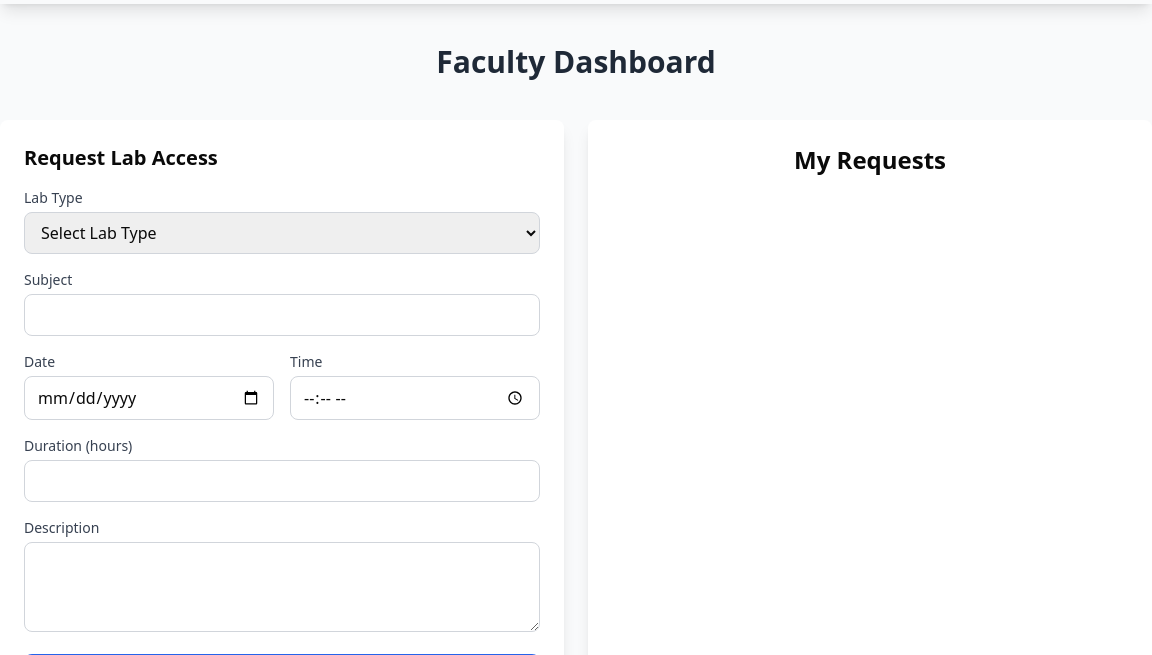
Test: Lab Booking System › checks if the request appears in 'My Requests' list
Select "Chemical Lab" in the dropdown. click: (282, 233)
box: [24, 212, 540, 254]
Type "general Organic Chemistry" into the field. click: (282, 315)
box: [24, 294, 540, 336]
Type "2025-04-10" into the date field. click: (149, 398)
box: [24, 376, 274, 420]
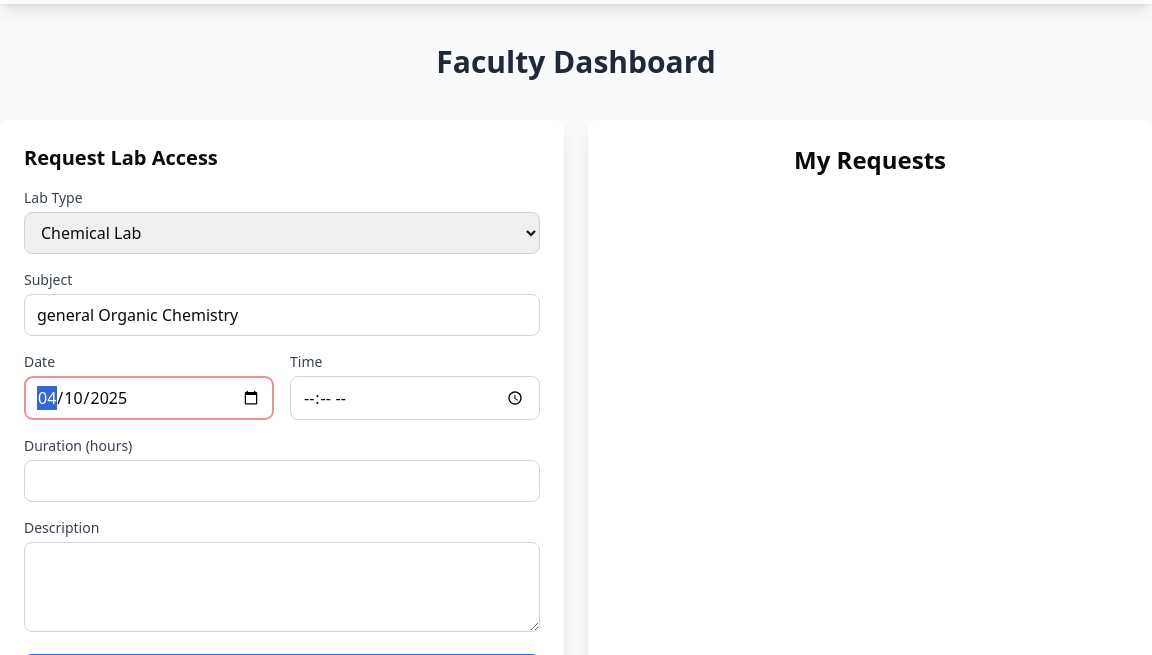
Type "12:00" into the time field. click: (415, 398)
box: [290, 376, 540, 420]
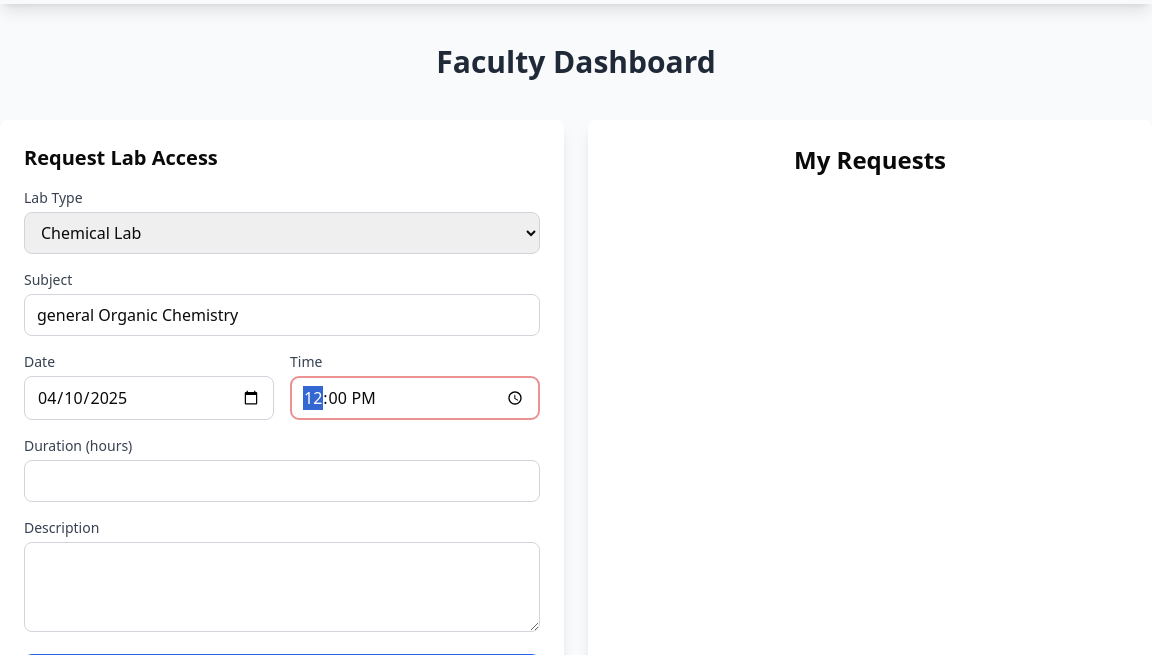
Type "2" into the number field. click: (282, 481)
box: [24, 460, 540, 502]
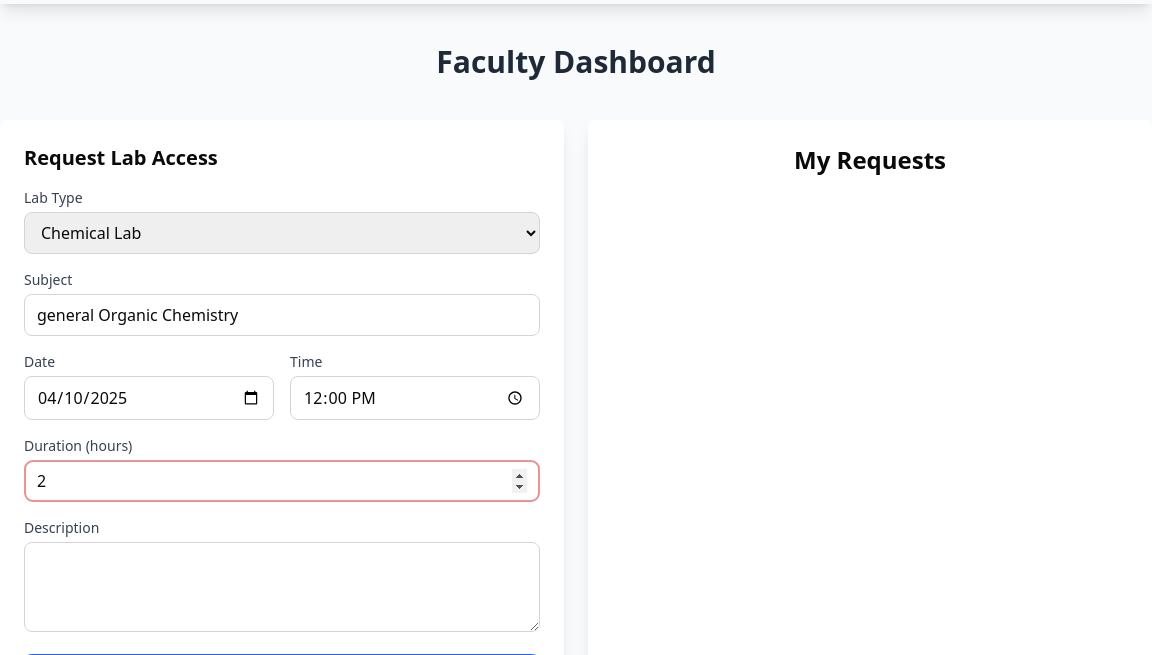
Type "Chemical Lab for class experiment" into the text box. click: (282, 587)
box: [24, 542, 540, 632]
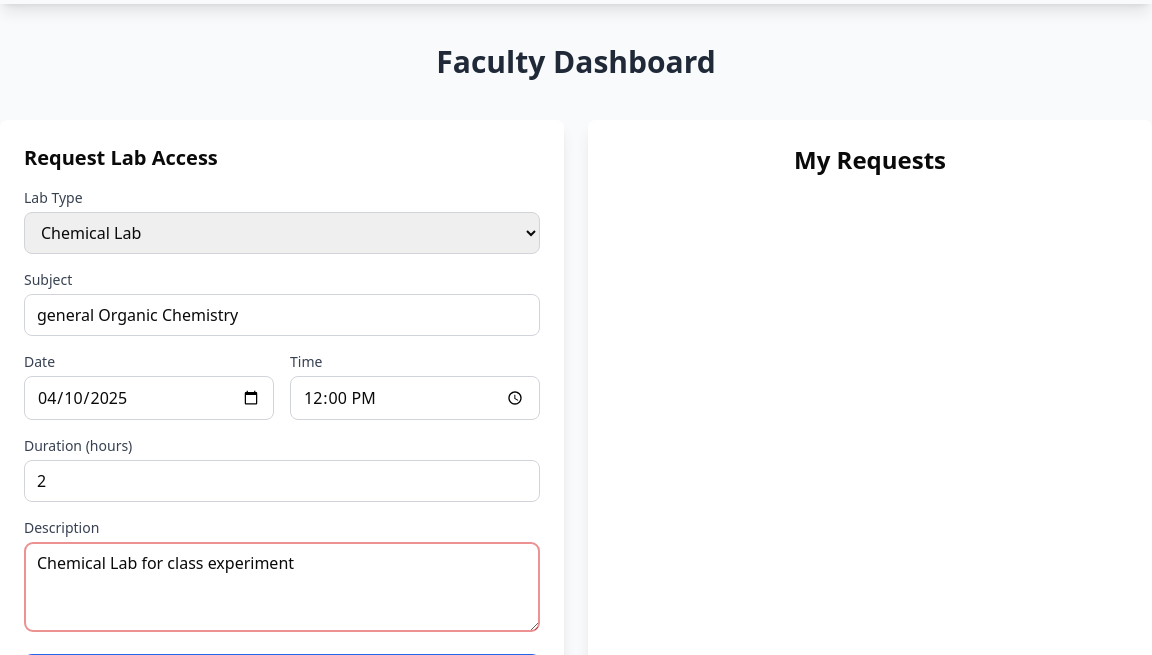
Scroll
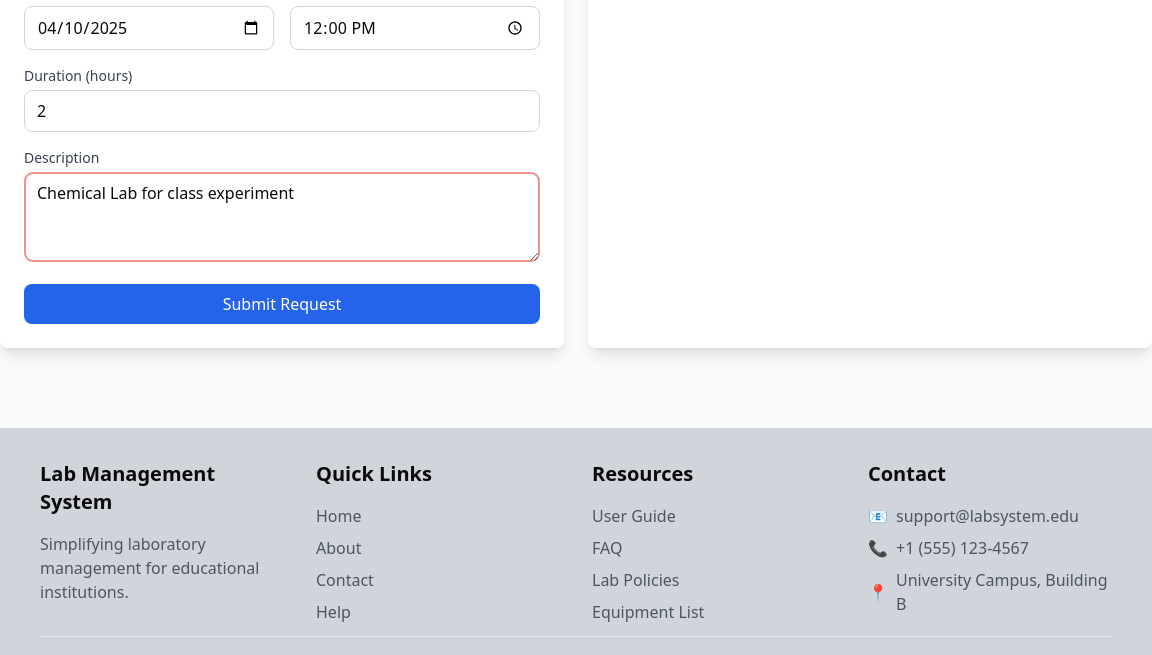
Click the submit button. click: (282, 304)
box: [24, 284, 540, 324]
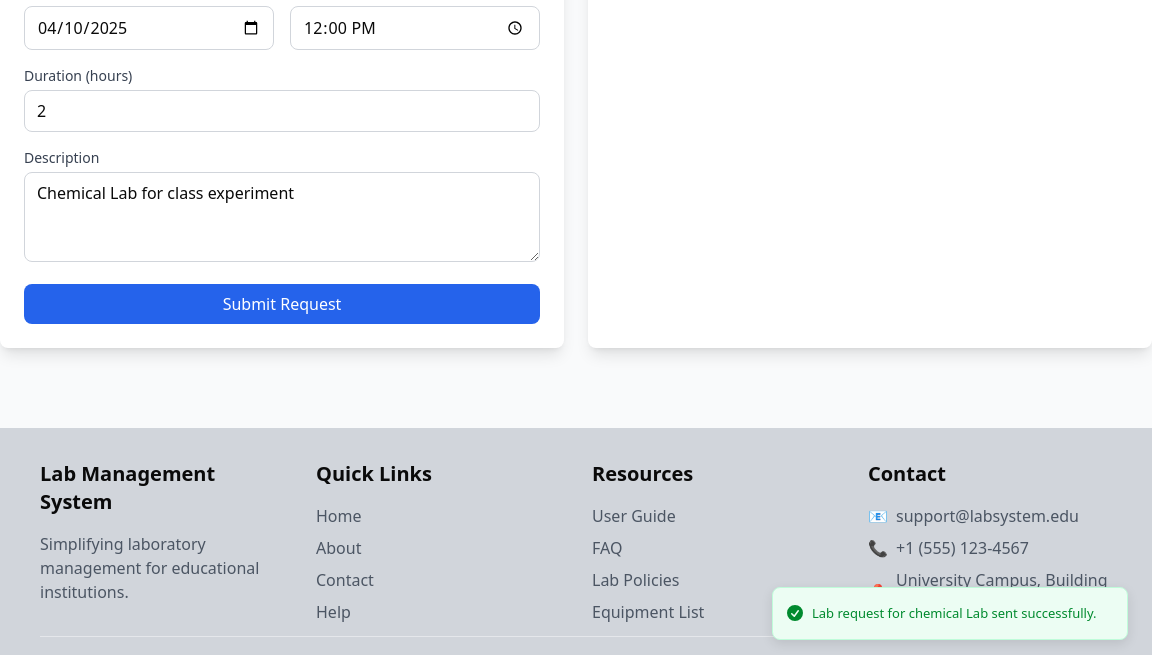
Expected: the text "Lab request for chemical Lab sent successfully." is shown, [812, 604, 1096, 623]
